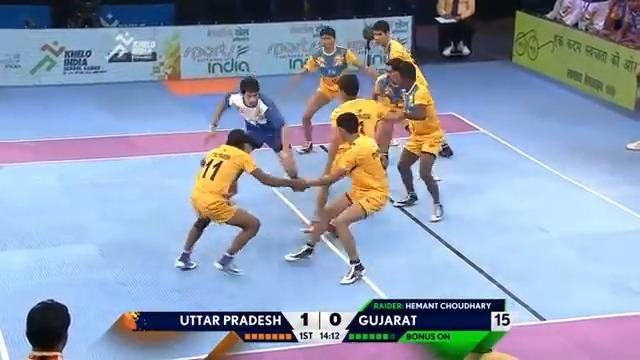Player: (174, 127, 306, 275), (284, 111, 390, 284), (362, 19, 453, 159), (284, 25, 379, 154), (384, 58, 445, 222), (325, 72, 407, 176), (22, 298, 71, 359)
Raider: (206, 77, 305, 190)
referee: (433, 0, 476, 57)
